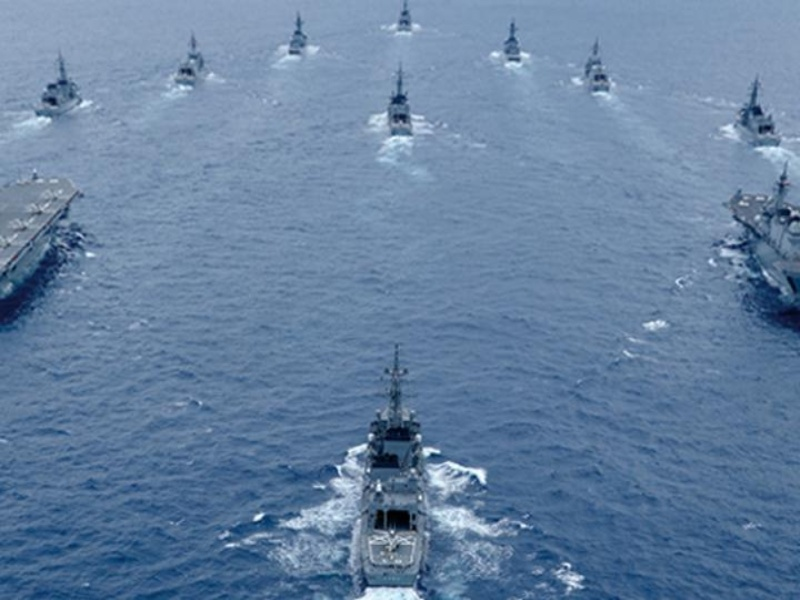carrier: (2, 179, 78, 299), (725, 193, 800, 308)
cruise: (339, 368, 434, 590), (726, 78, 783, 150), (370, 70, 424, 140), (36, 57, 84, 119), (160, 32, 209, 89), (573, 48, 619, 98), (490, 16, 533, 65), (281, 12, 314, 57), (394, 4, 419, 34)
